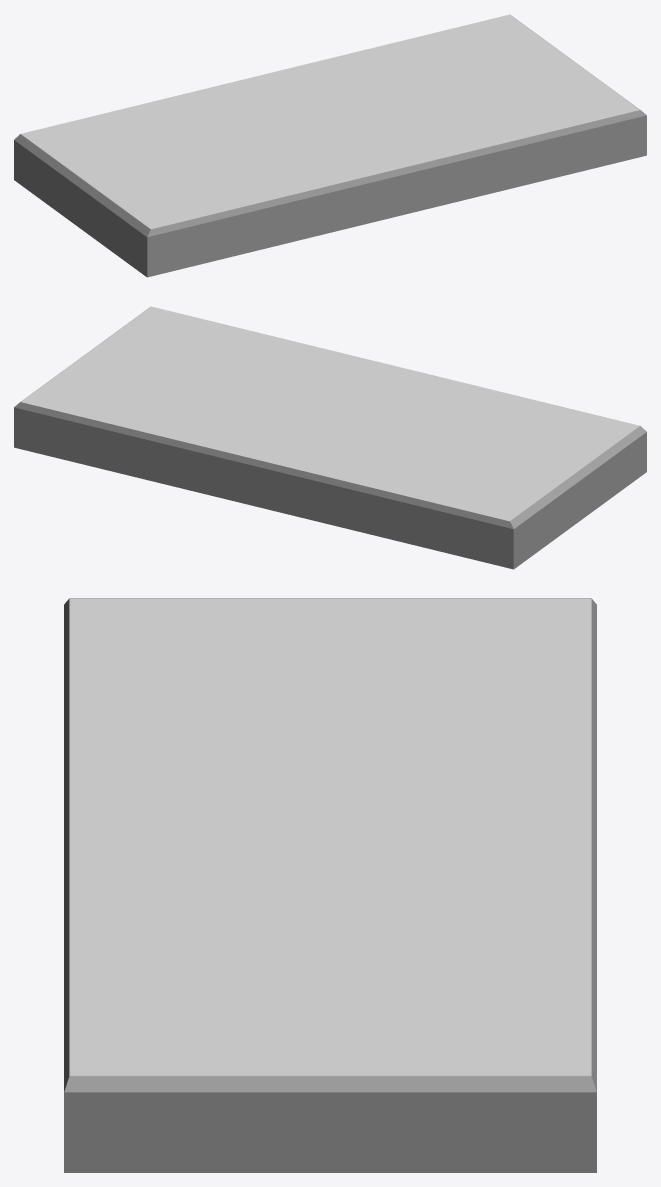
Rendered from podloga6.5_3.obj.
The picture shows the model from 3 angles, top to bottom: view 1: azimuth 30°, elevation 25°; view 2: azimuth 150°, elevation 25°; view 3: azimuth 270°, elevation 25°; orthographic projection. The views are drawn at different scales.
Parts seen in each view (by area): view 1: Podloga.NR5.009_Cube.008; view 2: Podloga.NR5.009_Cube.008; view 3: Podloga.NR5.009_Cube.008.
Boxes of the visible parts, x1,y1,x2,y2 form: Podloga.NR5.009_Cube.008: [14, 14, 646, 277]; Podloga.NR5.009_Cube.008: [14, 306, 646, 569]; Podloga.NR5.009_Cube.008: [64, 598, 596, 1172].
Bounding box in the file's own units: 6.5 × 0.57 × 3.
1 material, 1 textured.
